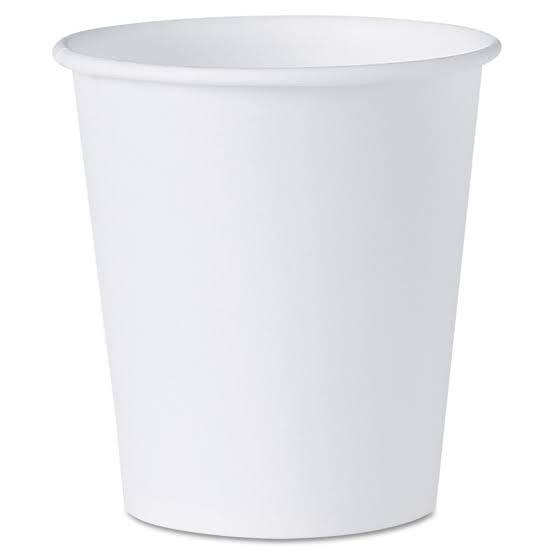PaperCup: (49, 11, 504, 545)
